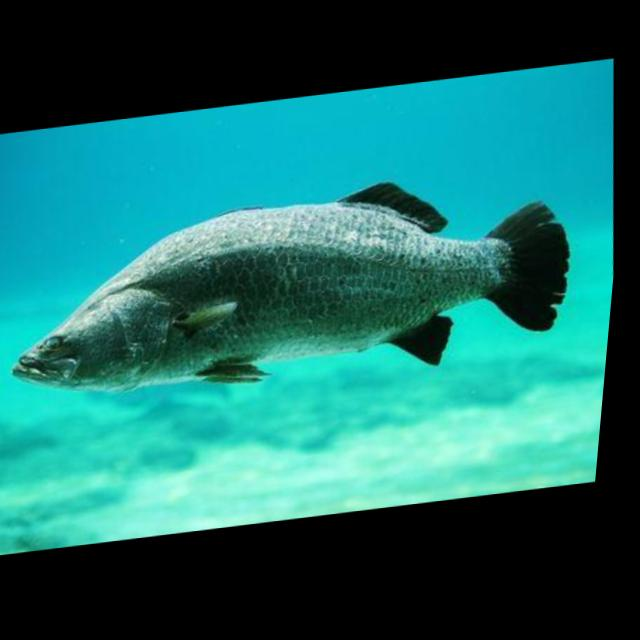Seabass: (0, 156, 588, 417)
